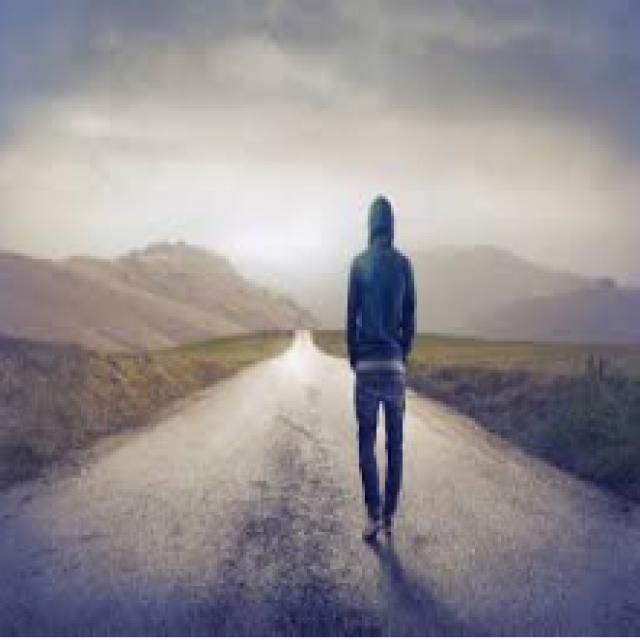standing: (340, 192, 420, 544)
